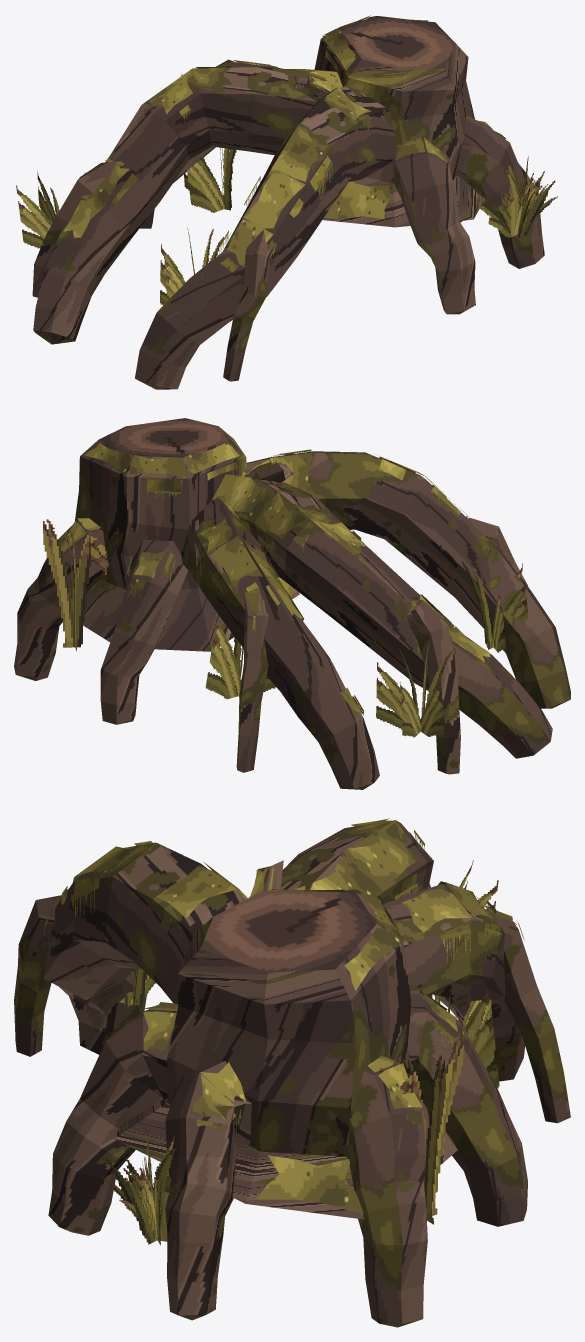
Rendered from SM_SW10_SnagLowSideways.fbx.
3 views of the same model, one above another, from view 1: azimuth 30°, elevation 25°; view 2: azimuth 150°, elevation 25°; view 3: azimuth 270°, elevation 25° (orthographic). The views are drawn at different scales.
Parts seen in each view (by area): view 1: SW10b_Bark, SW10b_Moss, SW10b_Plants, SW10b_Props; view 2: SW10b_Bark, SW10b_Moss, SW10b_Plants, SW10b_Props; view 3: SW10b_Bark, SW10b_Moss, SW10b_Plants, SW10b_Props.
Part boxes in pixels (<box>): SW10b_Bark: <box>32,29,544,389</box>; SW10b_Moss: <box>64,15,505,271</box>; SW10b_Plants: <box>16,72,557,305</box>; SW10b_Props: <box>294,17,455,90</box>; SW10b_Bark: <box>14,427,570,789</box>; SW10b_Moss: <box>58,442,508,718</box>; SW10b_Plants: <box>43,462,528,737</box>; SW10b_Props: <box>99,418,292,479</box>; SW10b_Bark: <box>14,820,570,1327</box>; SW10b_Moss: <box>50,818,524,1214</box>; SW10b_Plants: <box>44,830,501,1245</box>; SW10b_Props: <box>200,891,376,972</box>.
Size of the model in its own units: 3.2 by 1.51 by 2.19.
